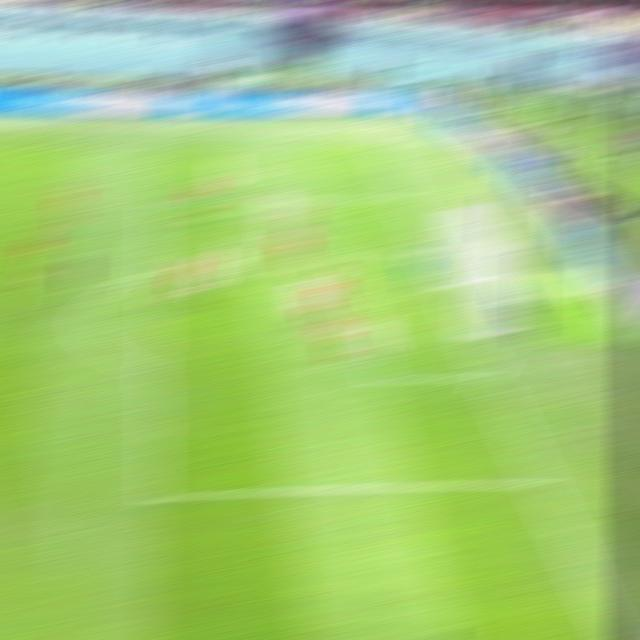bigarea_bottom_inner: (135, 483, 171, 509)
bigarea_bottom_outter: (523, 476, 555, 495)
bigarea_top_inner: (141, 195, 168, 210)
bigarea_top_outter: (391, 193, 415, 202)
bottom_arc_area_intersection: (137, 360, 170, 384)
corner: (363, 143, 389, 147)
smallarea_bottom_inner: (362, 367, 395, 390)
smallarea_bottom_outter: (471, 365, 506, 386)
smallarea_top_inner: (327, 249, 355, 263)
smallarea_top_outter: (413, 246, 443, 259)
top_arc_area_intersection: (140, 262, 168, 277)
